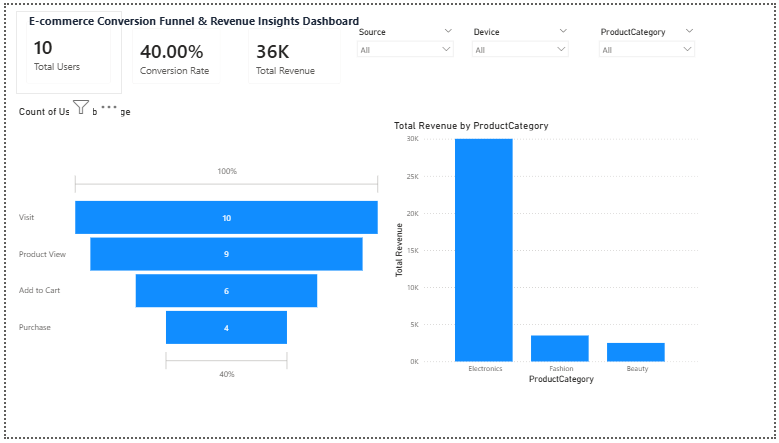

The dashboard page shown, as its layout file describes it:
{"tool":"powerbi","page":{"name":"Rough Version","canvas":[1280,720],"ordinal":0},"visuals":[{"type":"funnel","fields":{"Category":["EcommerceData.Stage"],"Y":["CountNonNull(EcommerceData.UserID)"]},"box":[17.1,167.1,612.9,538.6],"z":0},{"type":"cardVisual","fields":{"Data":["EcommerceData.Total Users"]},"box":[17.1,10,175.7,138.6],"z":1000},{"type":"cardVisual","fields":{"Data":["EcommerceData.Conversion Rate"]},"box":[193.2,21.8,181.4,127.7],"z":2000},{"type":"cardVisual","fields":{"Data":["EcommerceData.Total Revenue"]},"box":[386.4,21.8,188.1,127.7],"z":3000},{"type":"columnChart","fields":{"Category":["EcommerceData.ProductCategory"],"Y":["EcommerceData.Total Revenue"]},"box":[641.4,190,517.1,447.1],"z":5000},{"type":"slicer","fields":{"Values":["EcommerceData.Source"]},"box":[575,31.2,181.2,75],"z":7000},{"type":"slicer","fields":{"Values":["EcommerceData.Device"]},"box":[766.2,31.2,181.2,75],"z":8000},{"type":"slicer","fields":{"Values":["EcommerceData.ProductCategory"]},"box":[978.6,31.4,180,75.7],"z":9000},{"type":"textbox","box":[32.5,7.5,603.8,43.8],"z":9001}]}

Visuals, with their boxes in screenshot pixels (x1, y1, x2, y2), scaled from the page's 1280x720 canvas onto the 779x443 screenshot:
funnel - EcommerceData.Stage x CountNonNull(EcommerceData.UserID): bbox=[10, 103, 383, 434]
cardVisual - EcommerceData.Total Users: bbox=[10, 6, 117, 91]
cardVisual - EcommerceData.Conversion Rate: bbox=[118, 13, 228, 92]
cardVisual - EcommerceData.Total Revenue: bbox=[235, 13, 350, 92]
columnChart - EcommerceData.ProductCategory x EcommerceData.Total Revenue: bbox=[390, 117, 705, 392]
slicer - EcommerceData.Source: bbox=[350, 19, 460, 65]
slicer - EcommerceData.Device: bbox=[466, 19, 577, 65]
slicer - EcommerceData.ProductCategory: bbox=[596, 19, 705, 66]
textbox: bbox=[20, 5, 387, 32]
